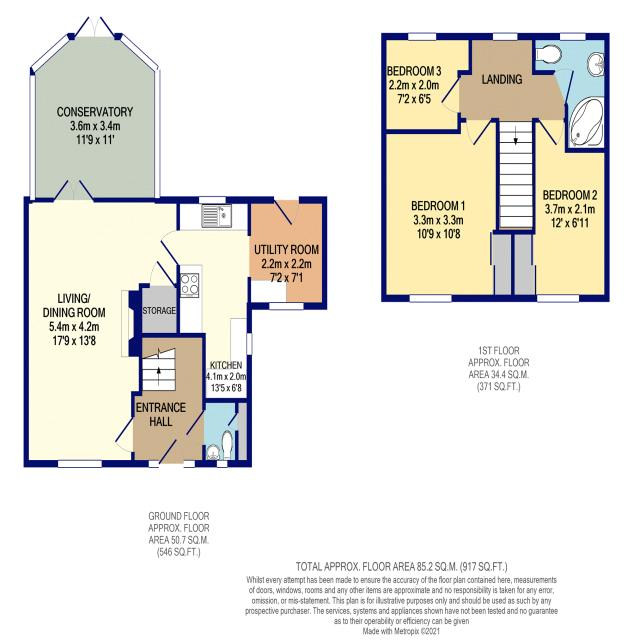DOOR: (551, 66, 576, 108), (113, 415, 136, 454), (148, 258, 176, 290), (273, 196, 301, 228), (465, 117, 493, 149), (537, 116, 565, 148), (158, 229, 181, 267), (185, 409, 207, 447), (440, 76, 462, 114), (159, 437, 185, 469)
DOUBLE DOOR: (52, 178, 95, 203), (74, 15, 115, 39)
ROOM: (23, 177, 182, 467), (159, 196, 328, 403), (29, 16, 161, 204), (381, 118, 515, 303), (511, 118, 610, 303), (381, 32, 473, 134)
WINDOW: (30, 33, 70, 75), (119, 33, 159, 74), (154, 68, 161, 199), (29, 74, 36, 202), (408, 293, 452, 303), (536, 293, 580, 303), (58, 459, 102, 468), (268, 301, 305, 311), (407, 32, 437, 43), (492, 31, 519, 42), (198, 195, 227, 205), (558, 32, 587, 42), (246, 332, 253, 356), (148, 459, 160, 469), (183, 459, 196, 468), (216, 459, 228, 468)
